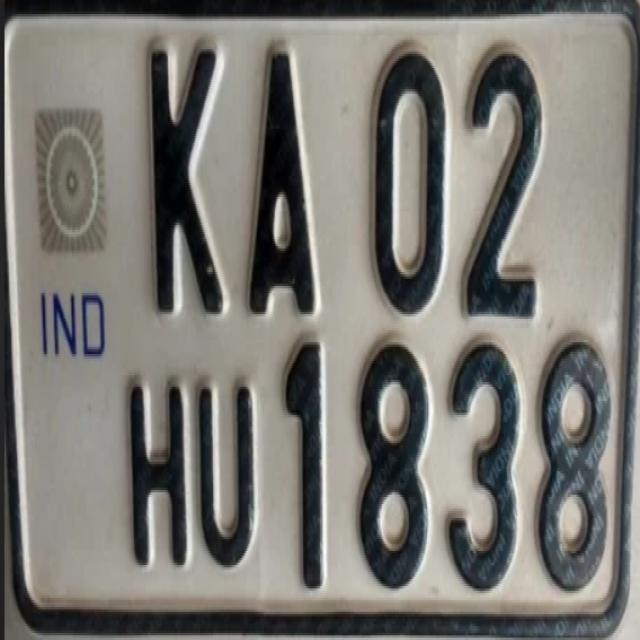0: (369, 33, 452, 324)
1: (282, 330, 337, 601)
3: (444, 336, 526, 606)
8: (540, 337, 616, 607), (358, 340, 436, 596)
A: (242, 33, 322, 324)
H: (124, 376, 190, 576)
K: (146, 33, 235, 344)
U: (194, 378, 262, 583)
